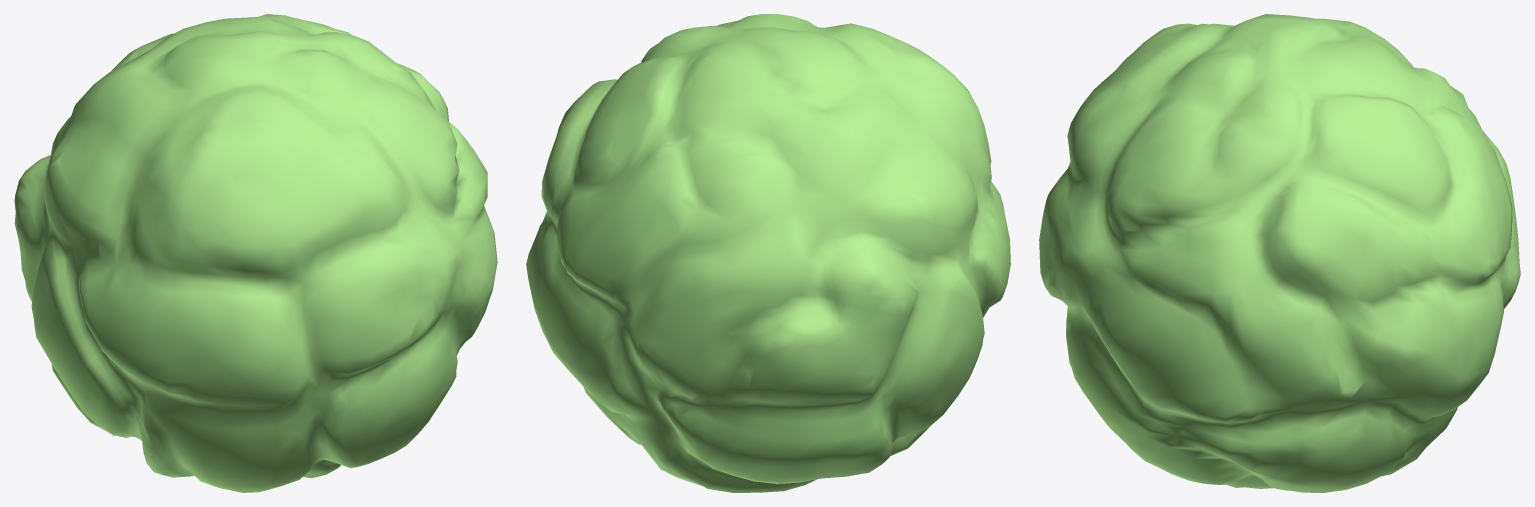
The model's file is ball-1.fbx.
3 views of the same model, side by side, from view 1: azimuth 30°, elevation 25°; view 2: azimuth 150°, elevation 25°; view 3: azimuth 270°, elevation 25° (orthographic).
Visible parts, largest first — view 1: ball; view 2: ball; view 3: ball.
Boxes of the visible parts, x1=… form: ball: x1=14, y1=14, x2=497, y2=492; ball: x1=526, y1=14, x2=1010, y2=492; ball: x1=1039, y1=14, x2=1520, y2=492.
Bounding box in the file's own units: 2.07 × 2.09 × 2.1.
